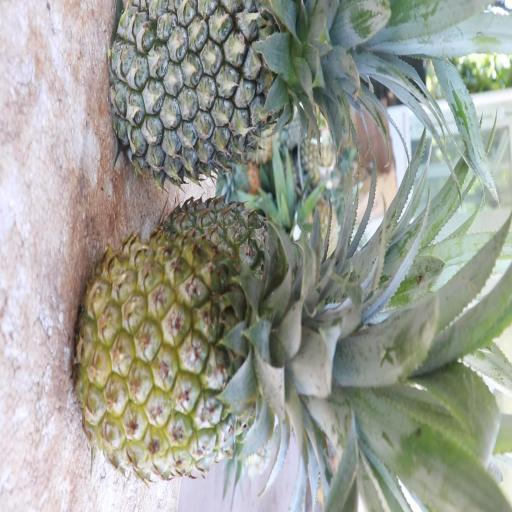------------------------------: (72, 223, 369, 486)
